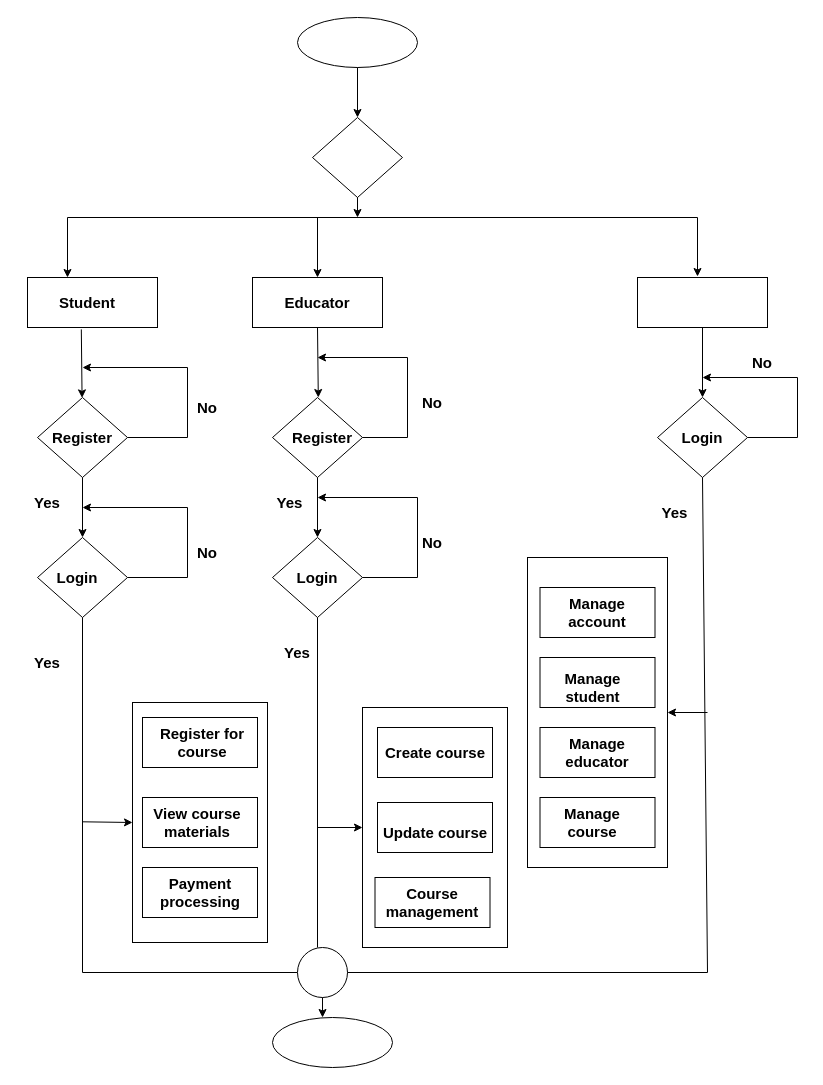
Some shapes in this 823 by 1085 pixel diagram are drawn without their labels. The centre of each missing label's shape, as x and y in pixels:
"Admin" goes at (x=702, y=302).
"End" goes at (x=332, y=1042).
"Start" goes at (x=357, y=42).
